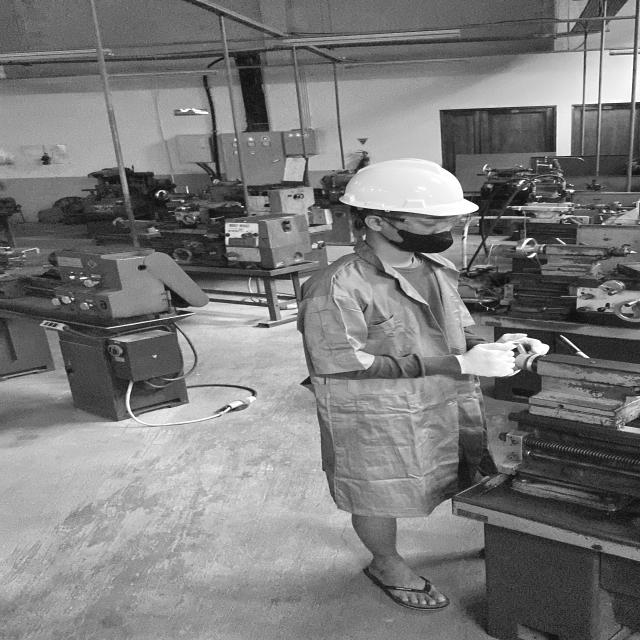face_mask: (391, 213, 464, 255)
glasses: (386, 210, 470, 234)
hand_glove: (454, 339, 527, 383)
head_helmet: (338, 157, 480, 219)
person: (309, 156, 544, 607)
